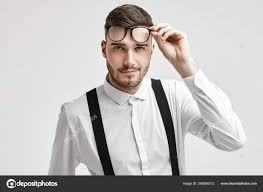S_shirt: (48, 69, 245, 177)
